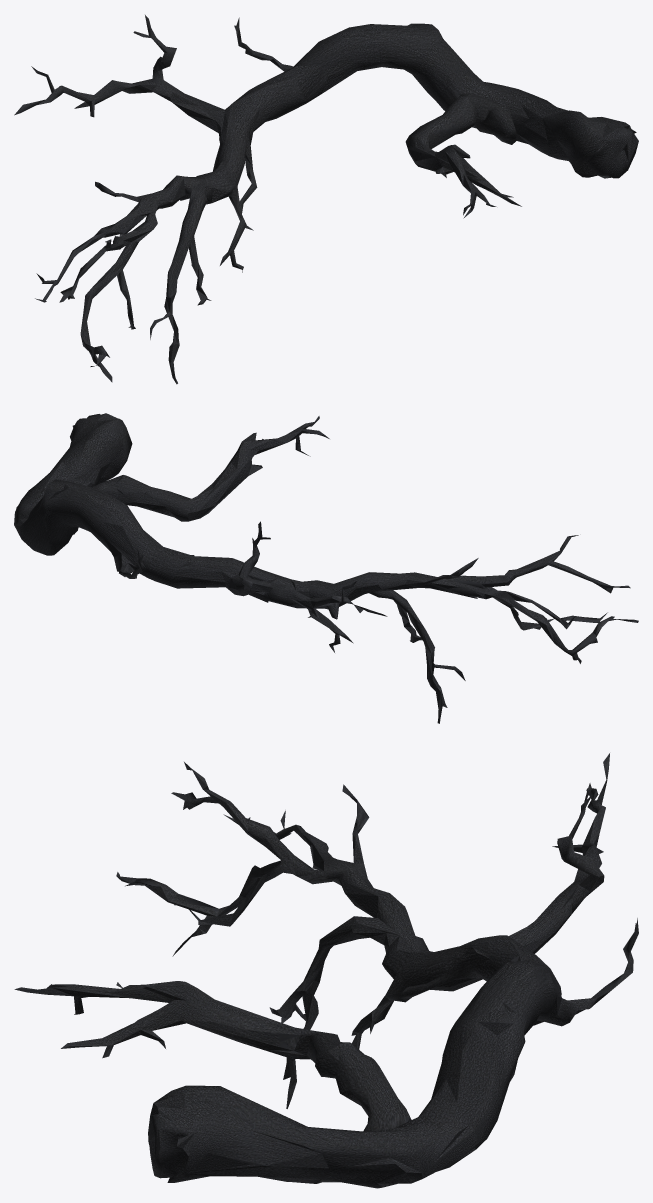
File: modelo.fbx
The picture shows the model from 3 angles, top to bottom: view 1: azimuth 30°, elevation 25°; view 2: azimuth 150°, elevation 25°; view 3: azimuth 270°, elevation 25°; orthographic projection. The views are drawn at different scales.
Parts seen in each view (by area): view 1: Mesh_0; view 2: Mesh_0; view 3: Mesh_0.
Part boxes in pixels (x1,y1,x2,y2): Mesh_0: [14, 15, 638, 384]; Mesh_0: [14, 413, 638, 723]; Mesh_0: [14, 753, 638, 1188].
Size of the model in its own units: 188 by 84.49 by 126.
1 material, 1 textured.
